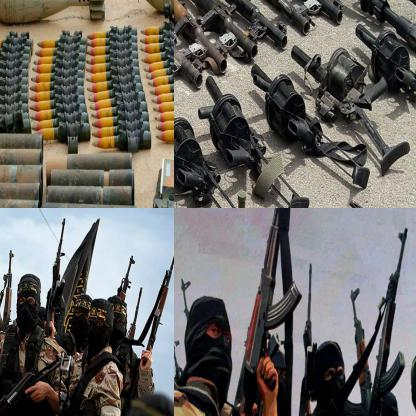rifle: (247, 61, 370, 190), (290, 43, 409, 174), (197, 76, 311, 207), (242, 208, 301, 394), (174, 100, 261, 207), (364, 227, 410, 415), (352, 19, 415, 104), (174, 0, 256, 63), (196, 0, 290, 51), (138, 244, 173, 369), (174, 0, 229, 78), (344, 285, 377, 415), (0, 354, 68, 415), (40, 218, 70, 333), (174, 0, 202, 91), (244, 0, 311, 38), (276, 0, 343, 25), (0, 250, 17, 342), (125, 284, 146, 350), (113, 249, 137, 304)
